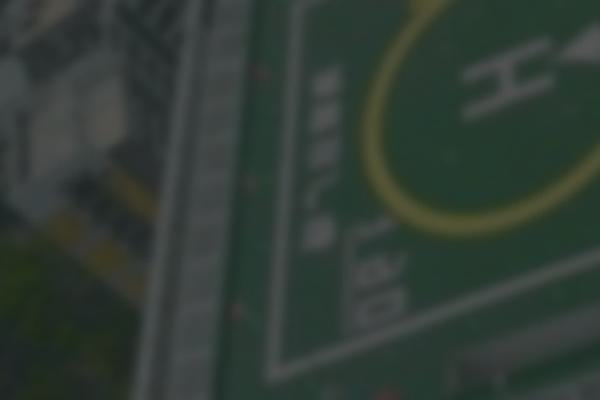Apron: (343, 1, 600, 252)
